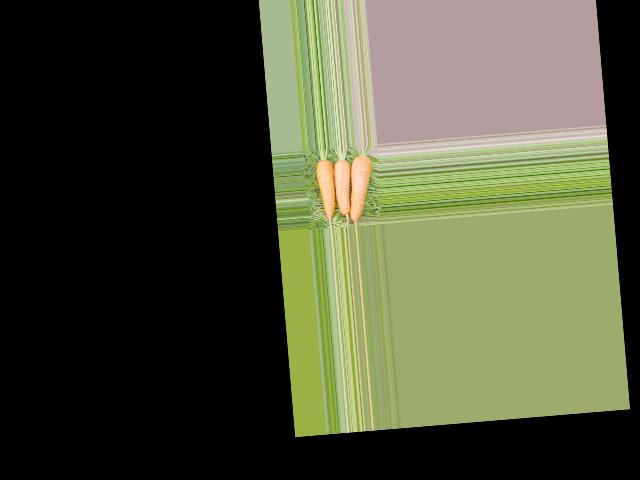carrot: (345, 154, 376, 222)
